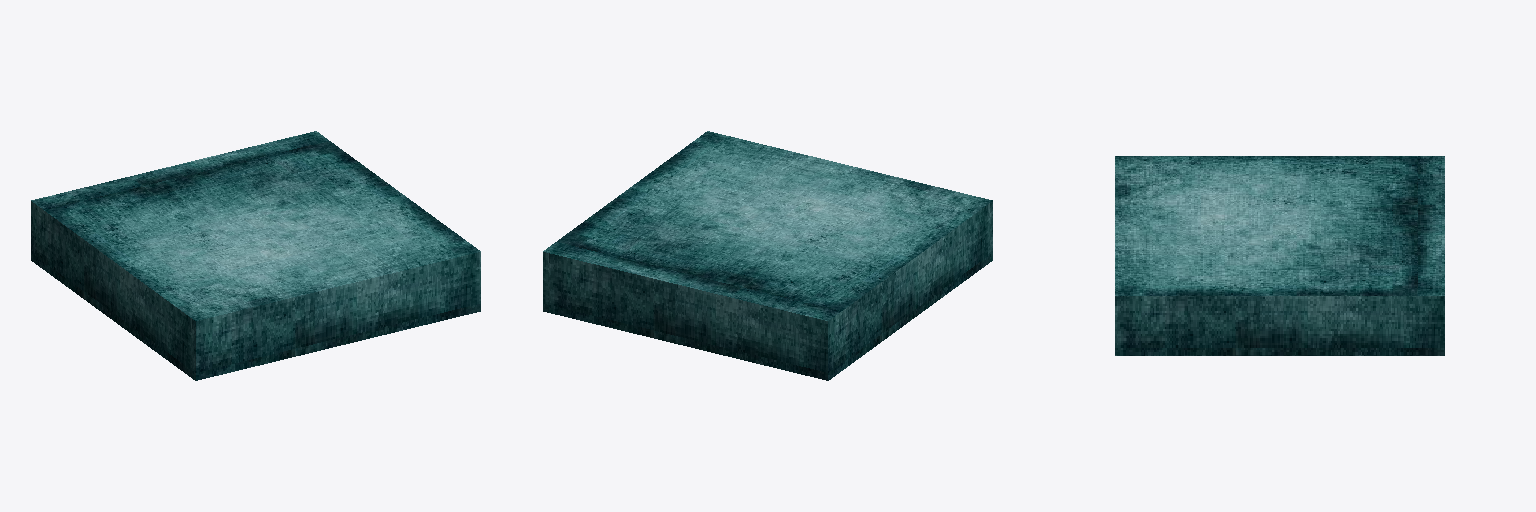
The picture shows the model from 3 angles: view 1: azimuth 30°, elevation 25°; view 2: azimuth 150°, elevation 25°; view 3: azimuth 270°, elevation 25°; orthographic projection.
Visible parts, largest first — view 1: Cube_Cube.002; view 2: Cube_Cube.002; view 3: Cube_Cube.002.
Part boxes in pixels (x1,y1,x2,y2): Cube_Cube.002: (31, 131, 480, 380); Cube_Cube.002: (543, 131, 992, 380); Cube_Cube.002: (1115, 156, 1444, 355).
Bounding box in the file's own units: 1 × 0.2 × 1.
Materials: 1 (1 with a texture image).